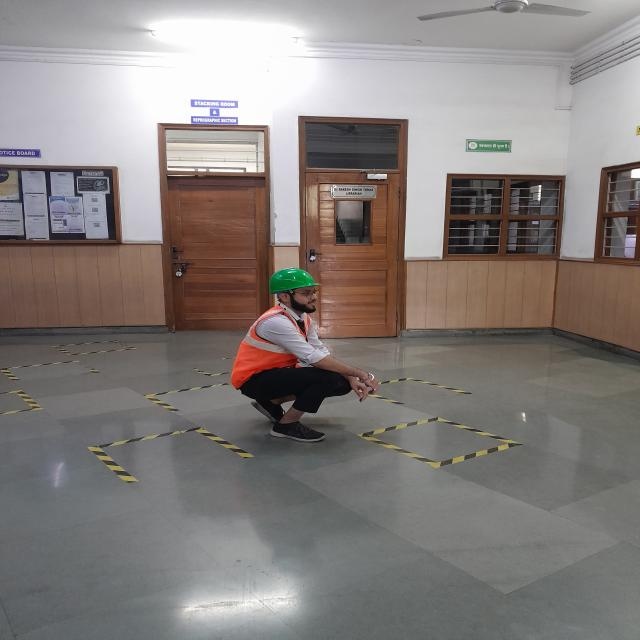safe: (231, 267, 353, 441)
